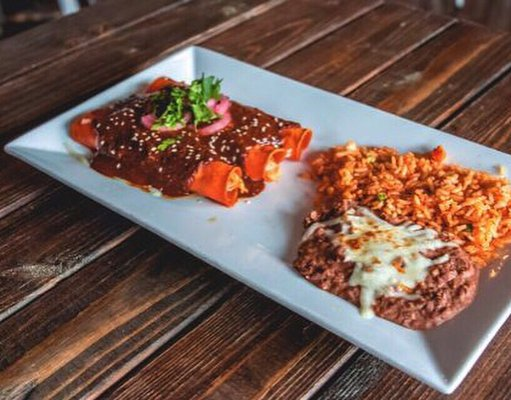curry: (1, 2, 510, 400)
sandwich: (287, 142, 511, 331)
